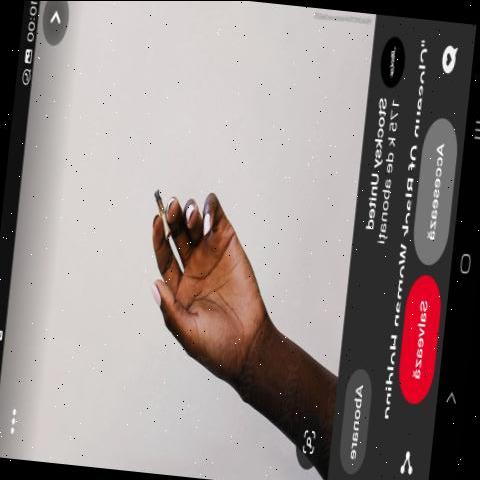Hands: (92, 162, 318, 396)
